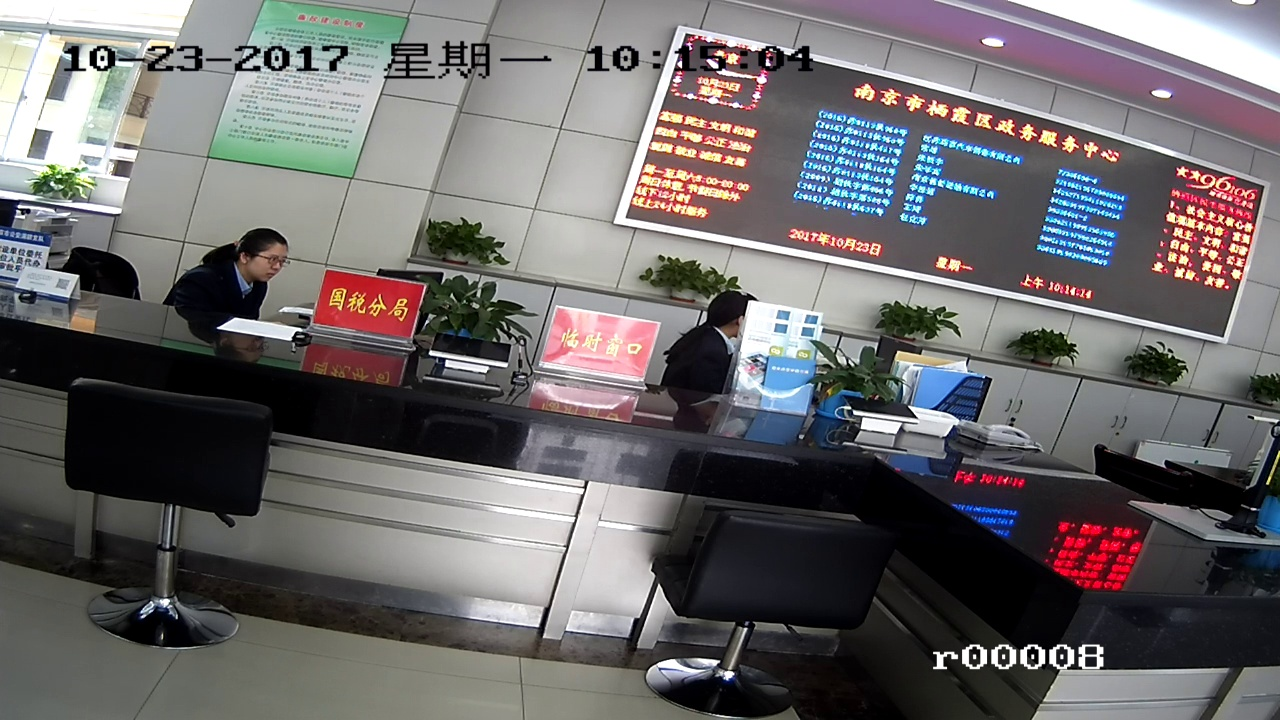billboard: (228, 6, 364, 180), (554, 308, 641, 374), (312, 279, 409, 338)
chair: (47, 387, 262, 653), (666, 515, 876, 709)
person: (182, 229, 296, 315), (682, 290, 756, 383)
pot: (433, 285, 505, 357), (876, 291, 955, 340), (440, 218, 510, 261), (1132, 347, 1189, 391), (1011, 328, 1066, 366)
